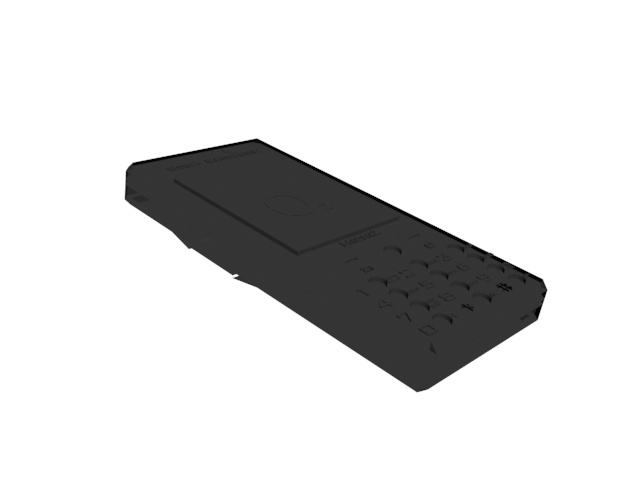mobile_phone: (121, 137, 552, 400)
